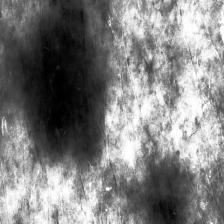Benign Marking or Mole: (16, 0, 110, 158), (138, 165, 202, 224)
